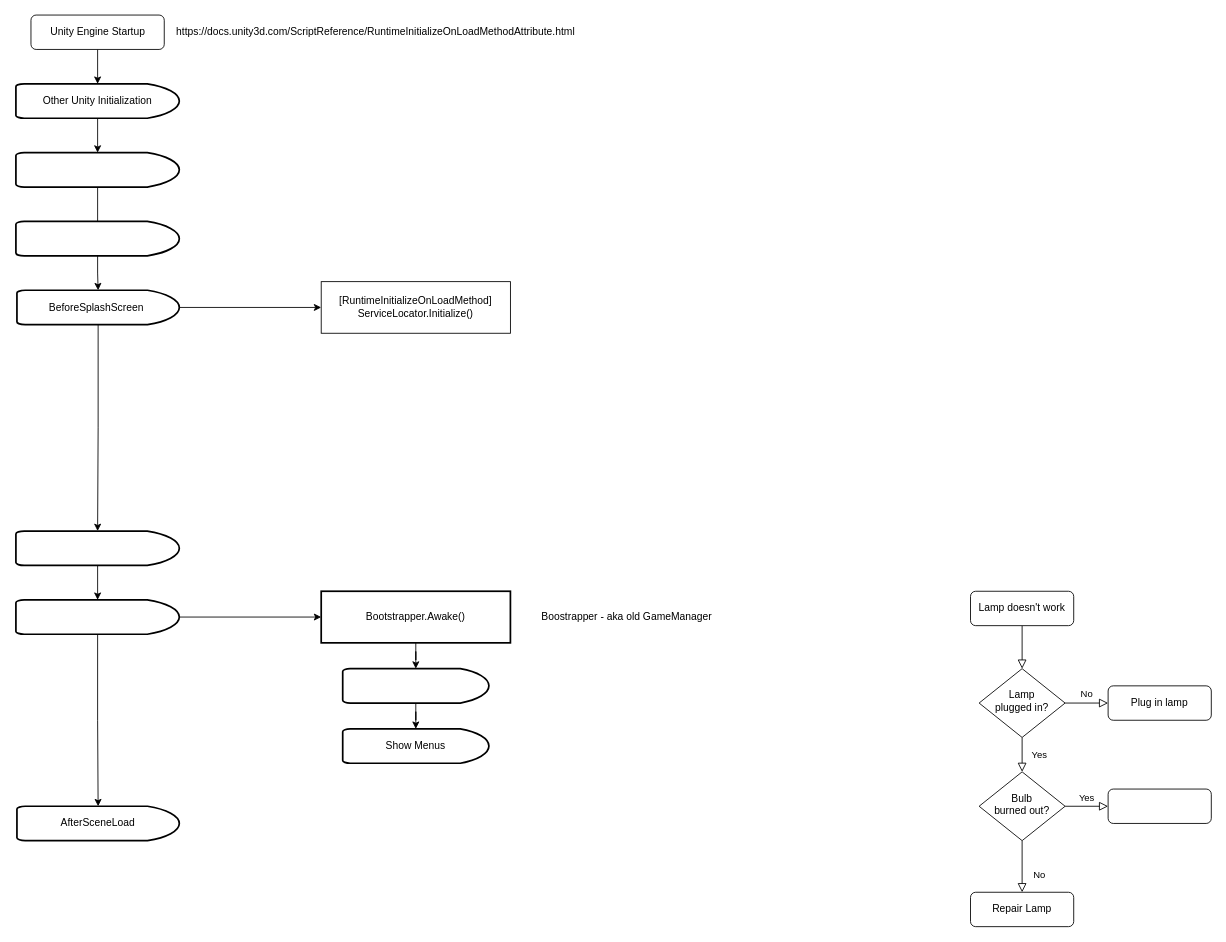
This 1226x942 diagram has some shape labels left out. Here are the shapes that lost their labels. From the top down, the box of each, then its label:
(15, 151, 180, 187): SubsystemRegistration
(15, 220, 180, 256): AfterAssembliesLoaded
(15, 530, 180, 566): BeforeSceneLoad
(15, 599, 180, 635): MonoBehaviour.Awake()
(341, 667, 489, 703): Do general initialization
(1107, 788, 1211, 823): Replace Bulb
